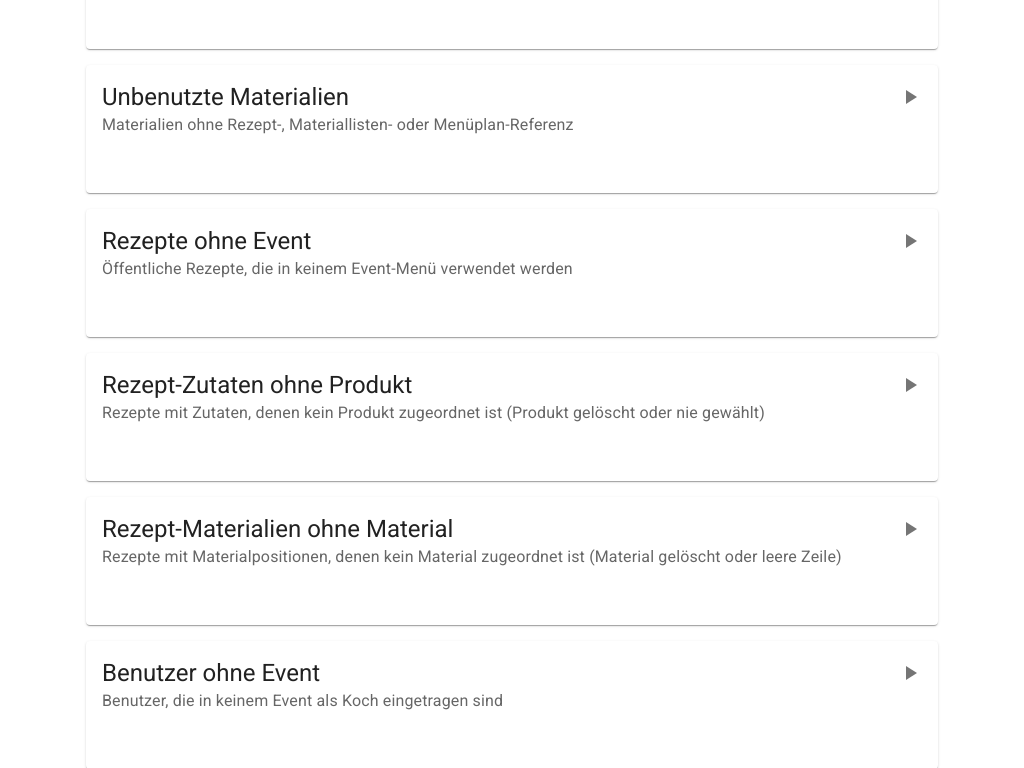
Scenario: DataIntegrityPage — Rezepte ohne Produkt/Material › zeigt pro Rezept Typ, Ersteller, Anzahl und betroffene Zeilen
The image size is (1024, 768).
(page scrolled)
Click the button named "Rezept-Zutaten ohne Produkt ausführen" at (910, 385), box x1=890 y1=365 x2=930 y2=405
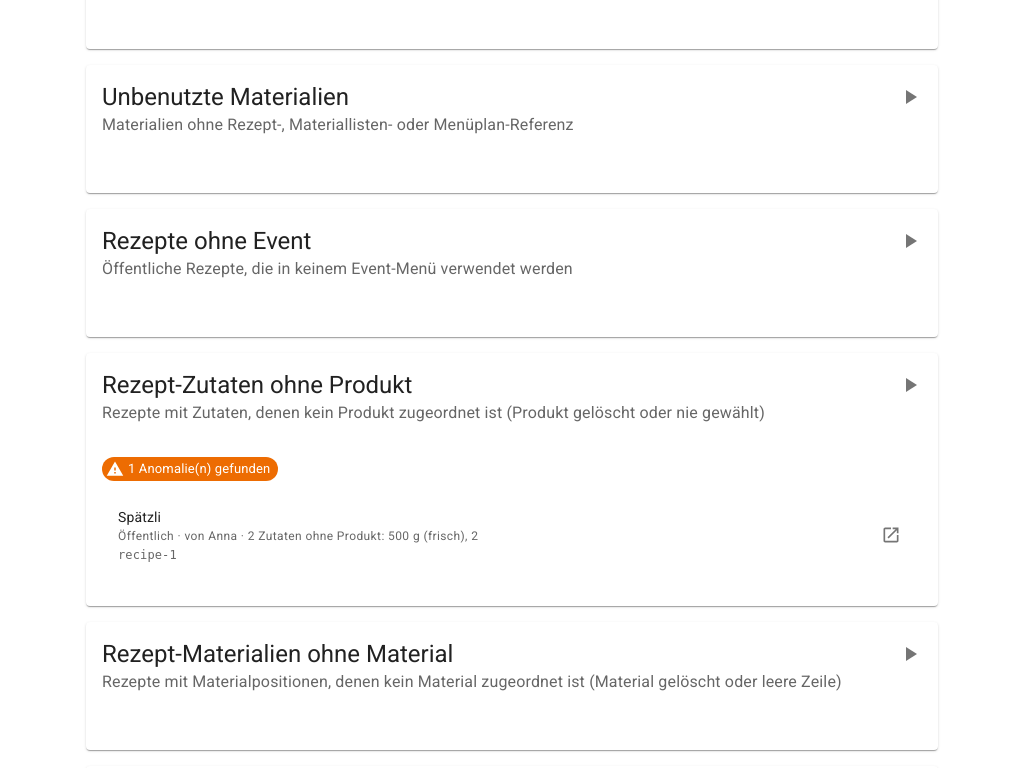
Check: the text "Spätzli" is shown, box x1=118 y1=509 x2=161 y2=525
Check: the text "Öffentlich · von Anna · 2 Zutaten ohne Produkt: 500 g (frisch), 2" is shown, box x1=118 y1=529 x2=478 y2=543
